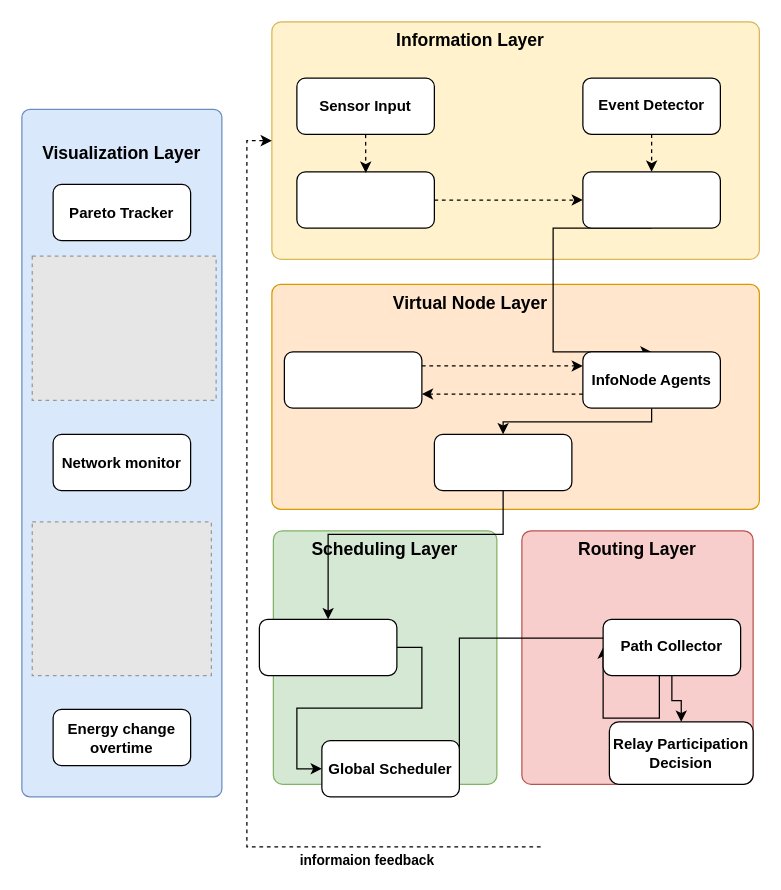
This 781x890 diagram has some shape labels left out. Grey dashed boxes stand in for pictures. The shapes that lost their labels are listed below. From the top down, each one's box as (x1, y1, x2, y2) in pixels, then its label:
(296, 171, 434, 228): AOEI Monitor
(582, 171, 720, 228): Information Value Evaluator
(283, 351, 422, 408): Multi-level State Cache
(433, 433, 572, 491): State Aggregation
(258, 618, 397, 676): Demand Pricing Strategy
